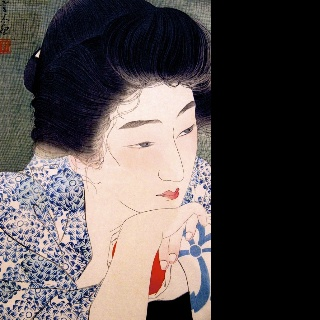without_mask: (97, 81, 197, 213)
